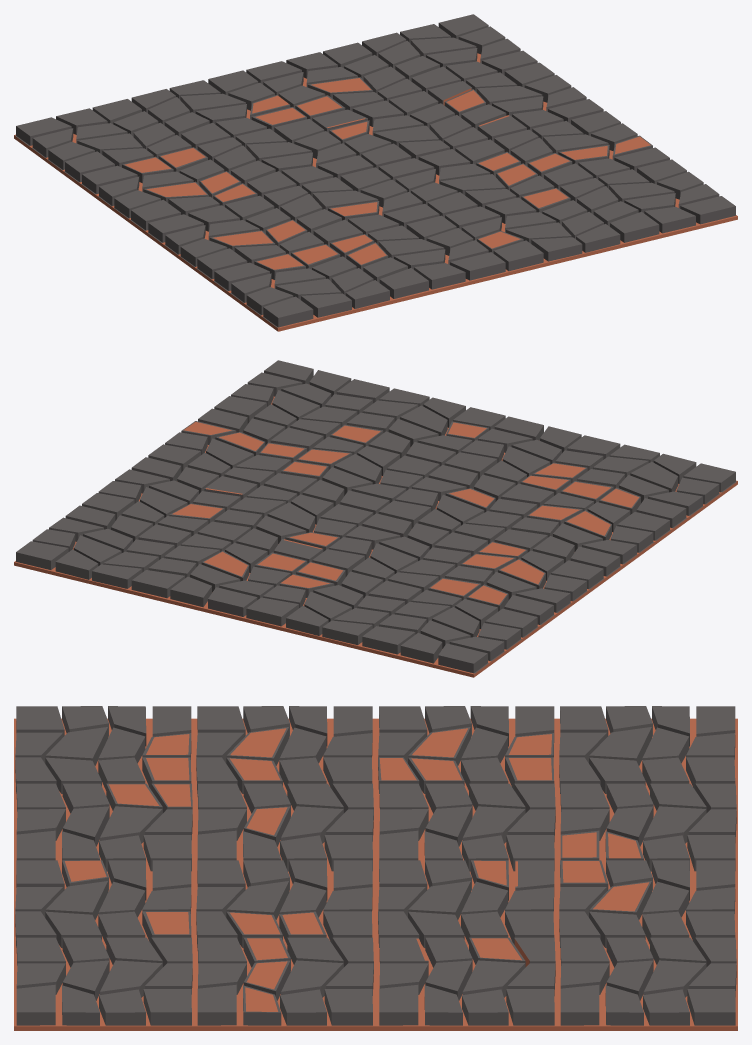
Rendered from Wrath_LavaFloor.fbx.
3 renders of one model, top to bottom at view 1: azimuth 30°, elevation 25°; view 2: azimuth 150°, elevation 25°; view 3: azimuth 270°, elevation 25°, orthographic. The views are drawn at different scales.
Parts seen in each view (by area): view 1: pCube9; view 2: pCube9; view 3: pCube9.
Part boxes in pixels (left/top/right/bottom): pCube9: left=14, top=14, right=737, bottom=331; pCube9: left=14, top=360, right=737, bottom=677; pCube9: left=14, top=706, right=737, bottom=1030.
Bounding box in the file's own units: 30.88 × 0.8331 × 30.72.
